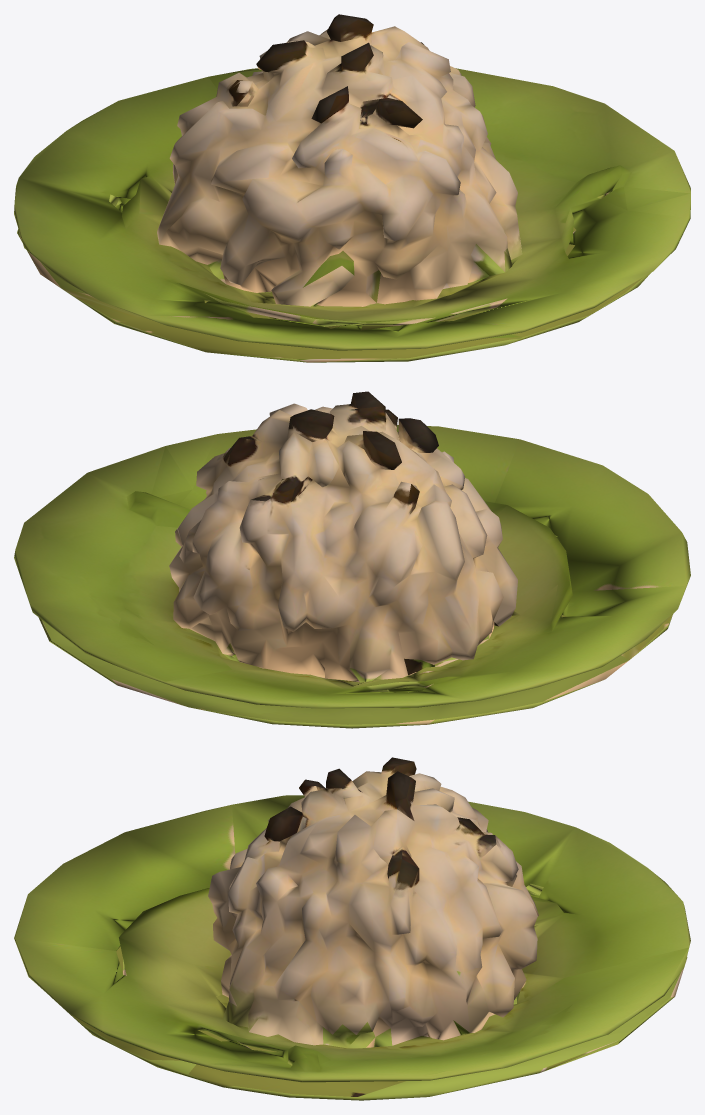
File: drift_rice.fbx
3 views of the same model, one above another, from view 1: azimuth 30°, elevation 25°; view 2: azimuth 150°, elevation 25°; view 3: azimuth 270°, elevation 25° (orthographic).
Visible parts, largest first — view 1: 1_output_1794126035087937_kTxYdJZxk; view 2: 1_output_1794126035087937_kTxYdJZxk; view 3: 1_output_1794126035087937_kTxYdJZxk.
Boxes of the visible parts, left/top/right/bottom form: 1_output_1794126035087937_kTxYdJZxk: left=14, top=14, right=690, bottom=362; 1_output_1794126035087937_kTxYdJZxk: left=14, top=391, right=690, bottom=728; 1_output_1794126035087937_kTxYdJZxk: left=14, top=757, right=690, bottom=1100.
Size of the model in its own units: 0.6667 by 0.25 by 0.6658.
1 material, 1 textured.
